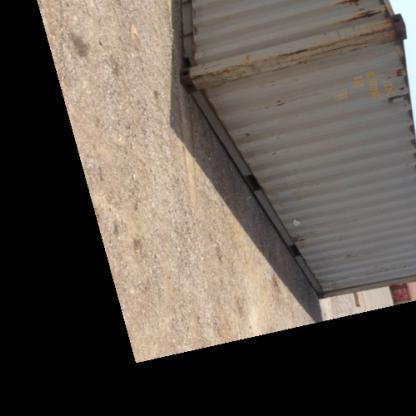Damage: (281, 25, 403, 69), (192, 56, 264, 97), (332, 1, 385, 25), (290, 214, 316, 244), (239, 125, 268, 144), (316, 276, 346, 294), (340, 250, 356, 264)
